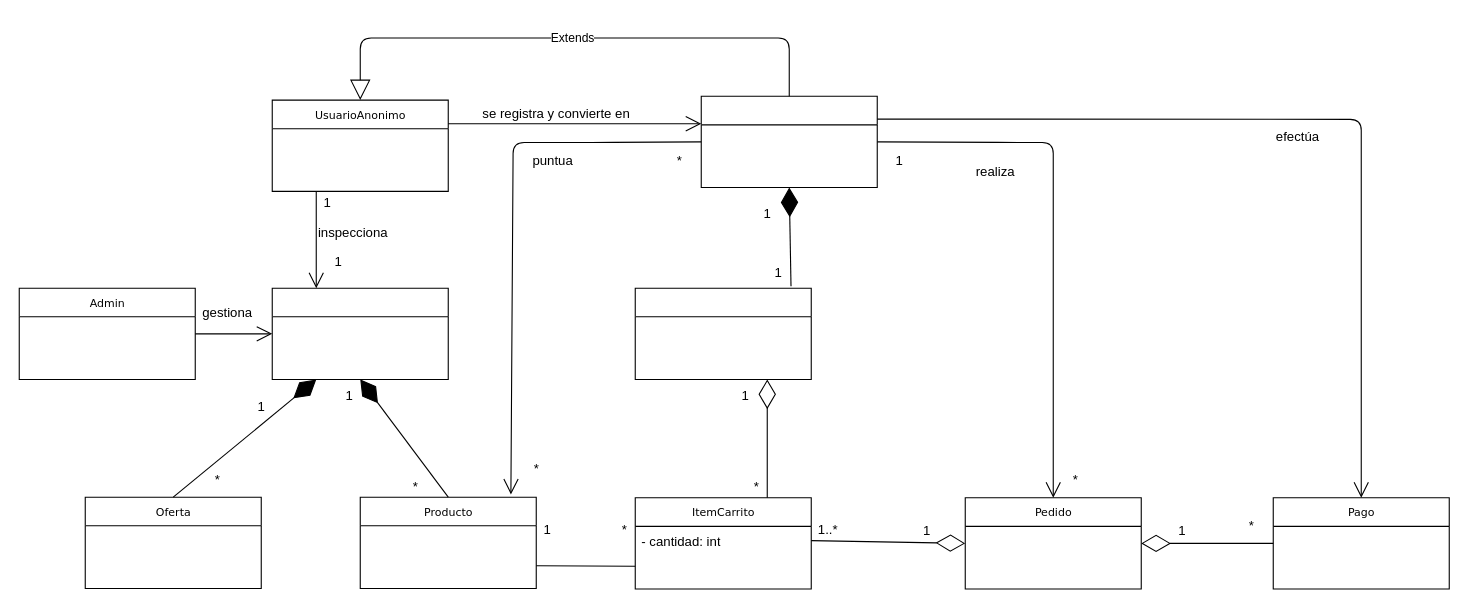
Image size: 1469x608. Some labels were removed from this diagram. The box of each missing label's shape, as (x1, y1, x2, y2) in pixels:
Carrito: (634, 287, 811, 380)
Catalogo: (271, 287, 448, 380)
UsuarioRegistrado: (700, 95, 877, 188)
